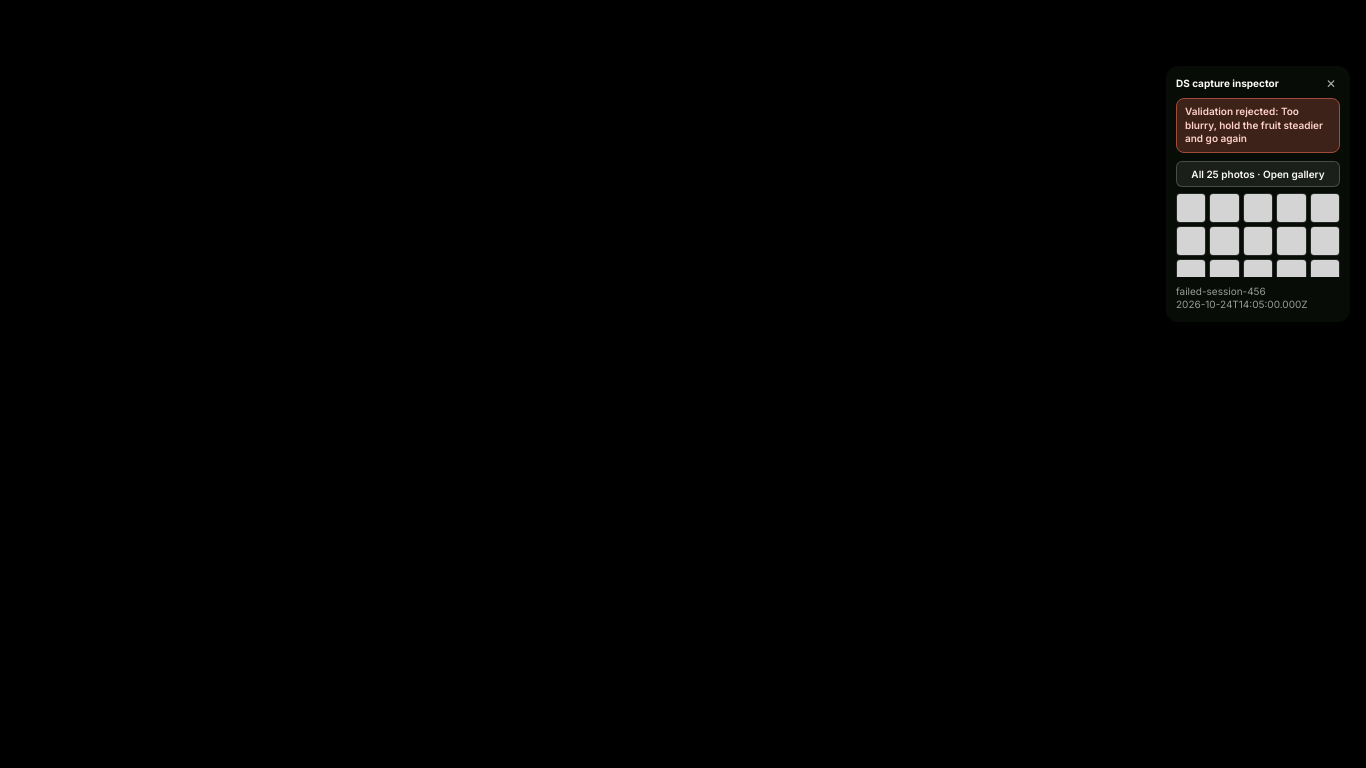
DeepScanCaptureInspector › opens the full gallery modal when tapping a thumbnail or gallery button
This screenshot has width=1366, height=768.
Tap the open gallery CTA
Click the button with test id "ds-inspector-open-gallery": (1258, 174) [1176,160,1340,186]
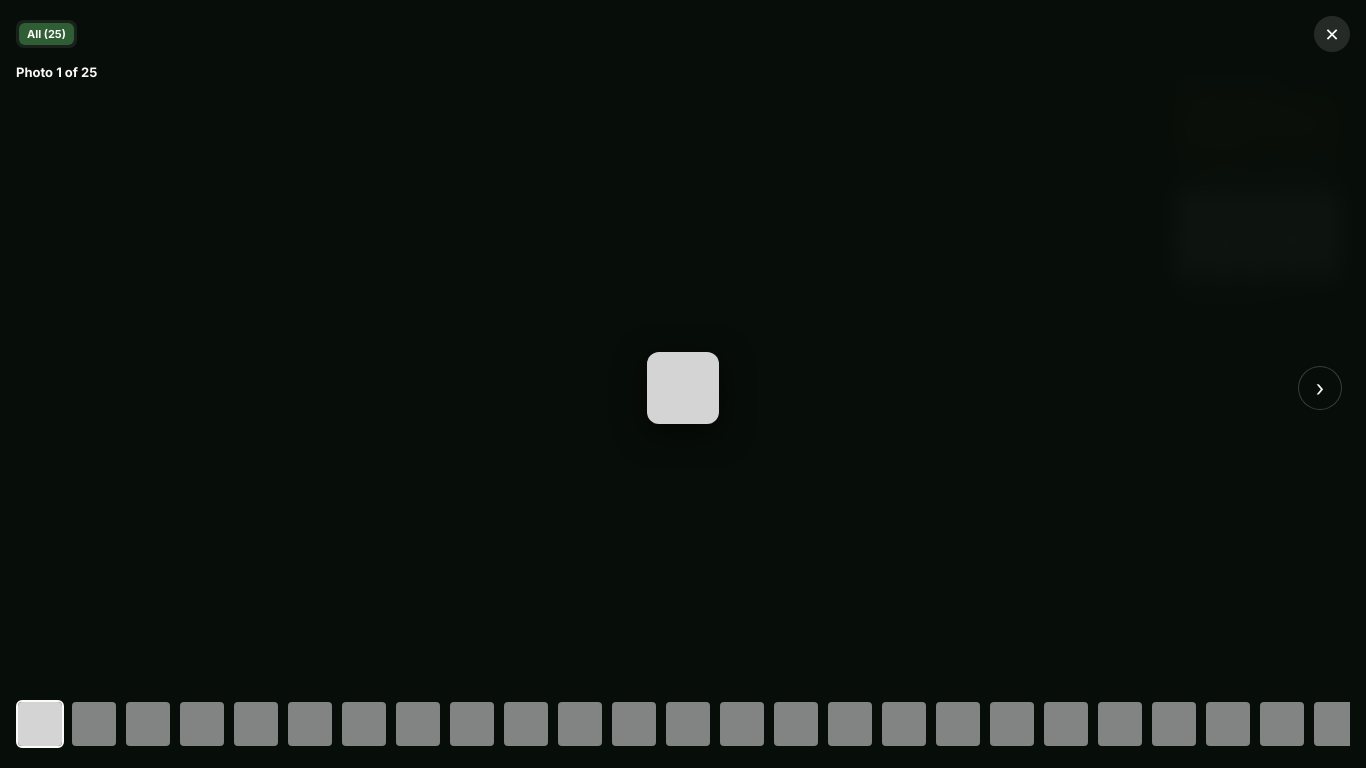
Check: the element with test id "ds-gallery-modal" is shown
Check: the text "Photo 1 of 25" is shown, box [16,64,97,80]
Navigate to next photo
Click the button with test id "ds-gallery-next": (1320, 388) [1298,366,1342,410]
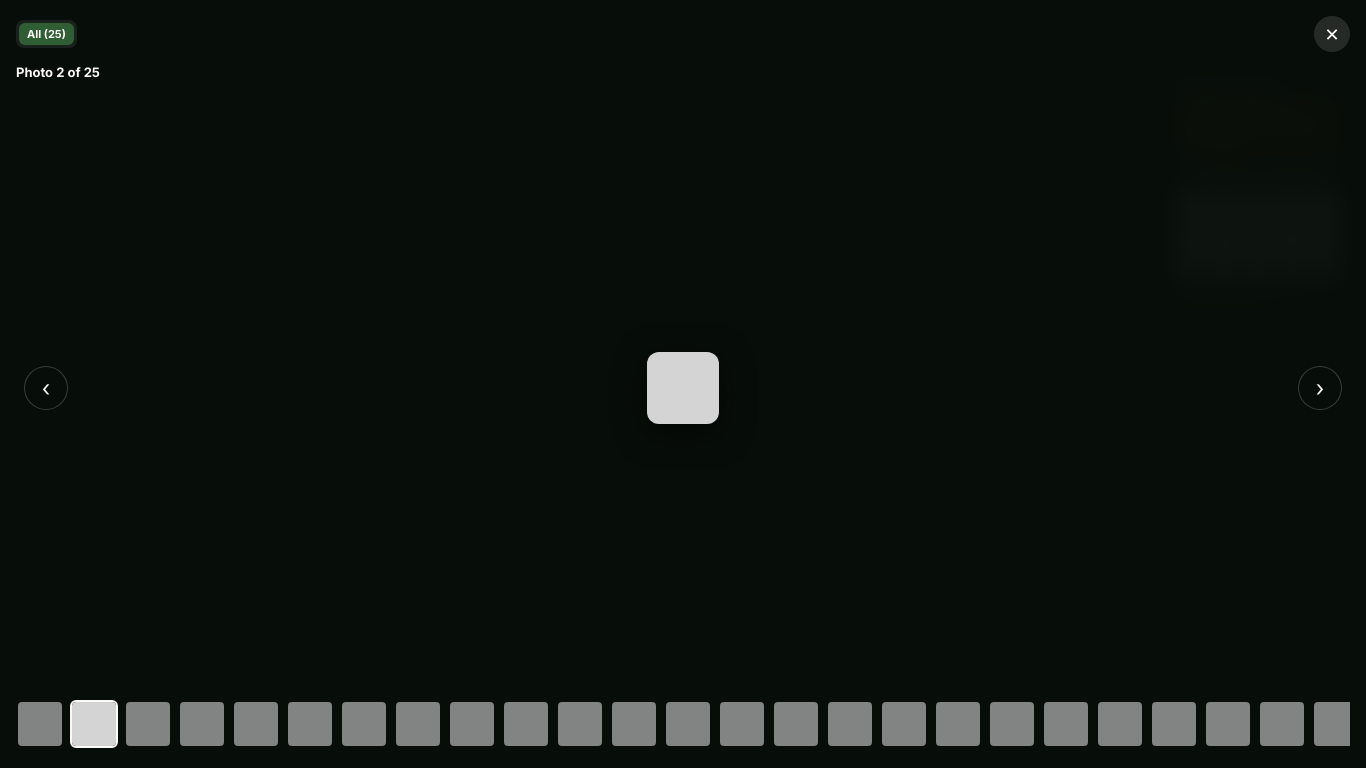
Check: the text "Photo 2 of 25" is shown, box [16,64,100,80]
Navigate to previous photo
Click the button with test id "ds-gallery-prev": (46, 388) [24,366,68,410]
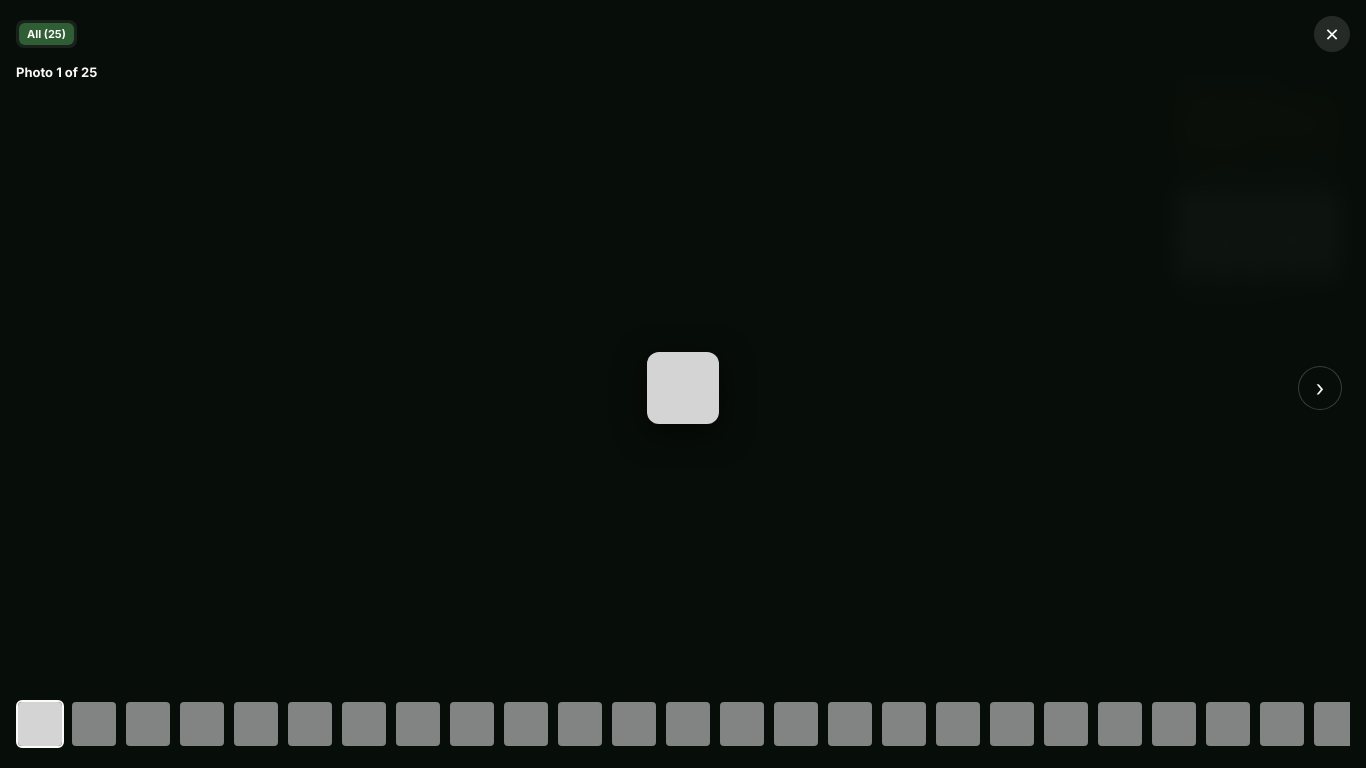
Check: the text "Photo 1 of 25" is shown, box [16,64,97,80]
Close the gallery
Click the button with test id "ds-gallery-close": (1332, 34) [1314,16,1350,52]
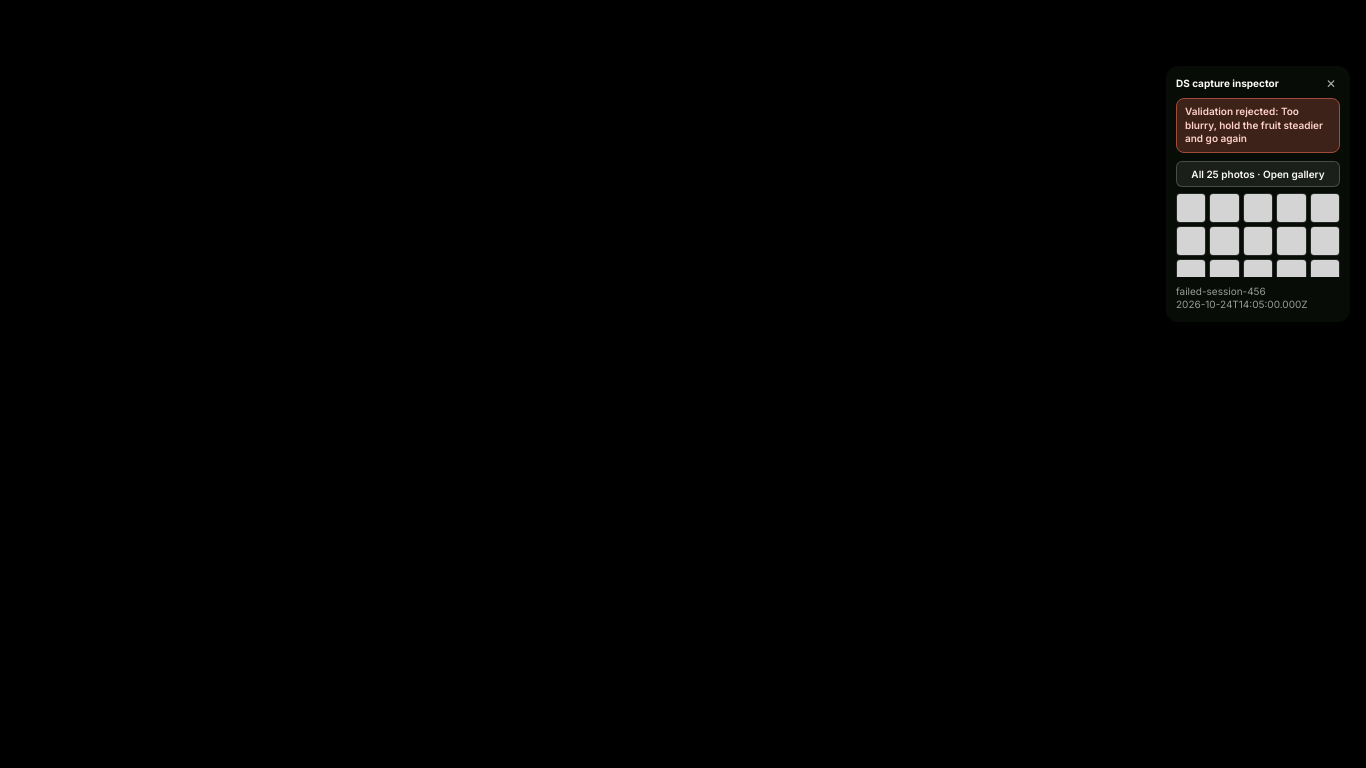
Check: the element with test id "ds-gallery-modal" is gone
